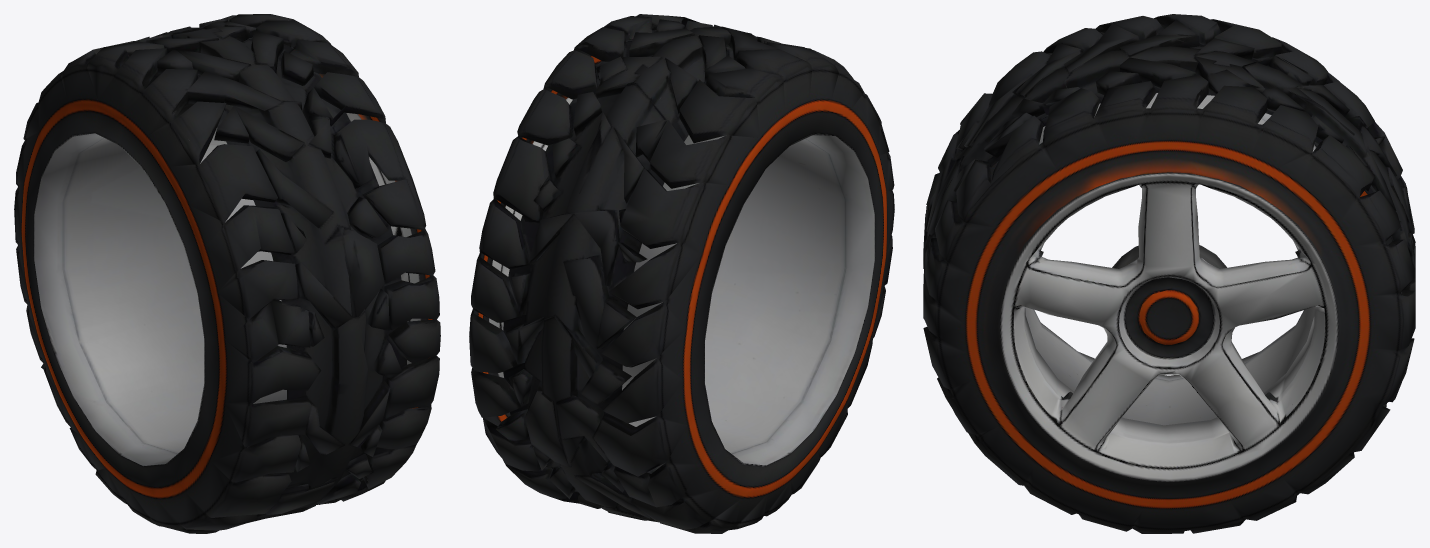
File: comic-wheel.glb
3 views of the same model, side by side, from view 1: azimuth 30°, elevation 25°; view 2: azimuth 150°, elevation 25°; view 3: azimuth 270°, elevation 25° (orthographic).
Parts seen in each view (by area): view 1: Wheel; view 2: Wheel; view 3: Wheel.
Part boxes in pixels (x1=…): Wheel: x1=14, y1=14, x2=440, y2=533; Wheel: x1=469, y1=14, x2=894, y2=533; Wheel: x1=923, y1=14, x2=1415, y2=533.
Bounding box in the file's own units: 0.5029 × 1 × 1.
1 material, 1 textured.
